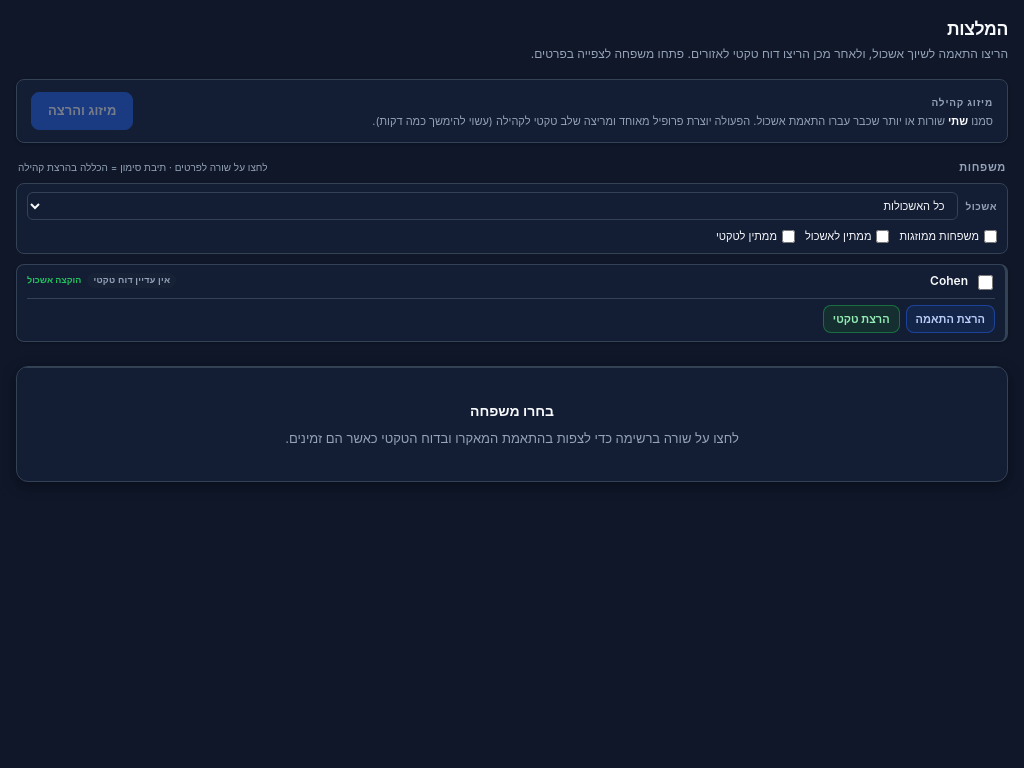
Test: RecommendationsPanel integration › selects a family row and shows detail placeholder
The image size is (1024, 768).
Step 1. Click the text "Cohen" → (949, 280), box [930,273,968,288]
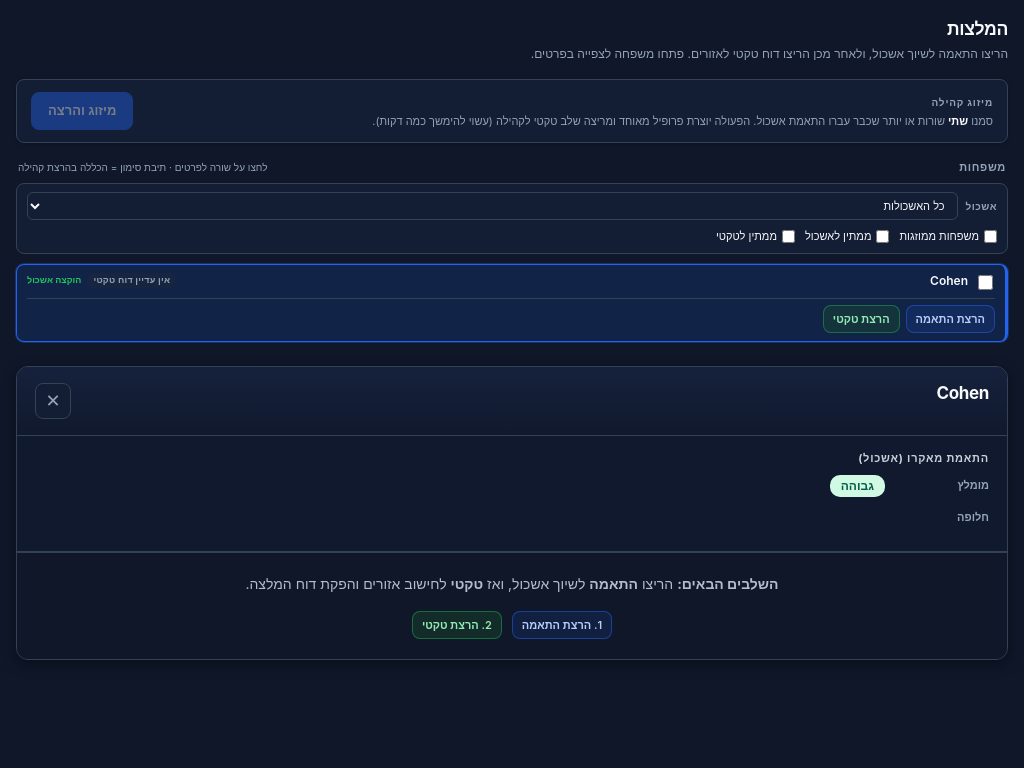
Check: the heading "Cohen" is shown, box [936,383,989,404]
